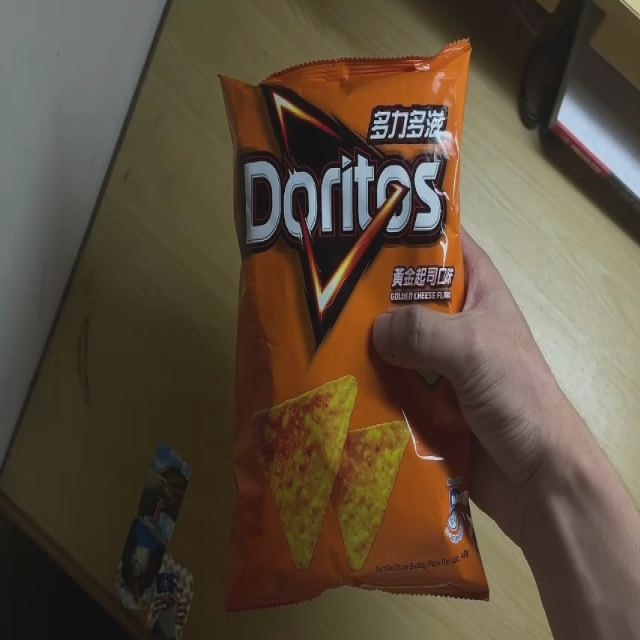Doritos: (218, 36, 492, 623)
